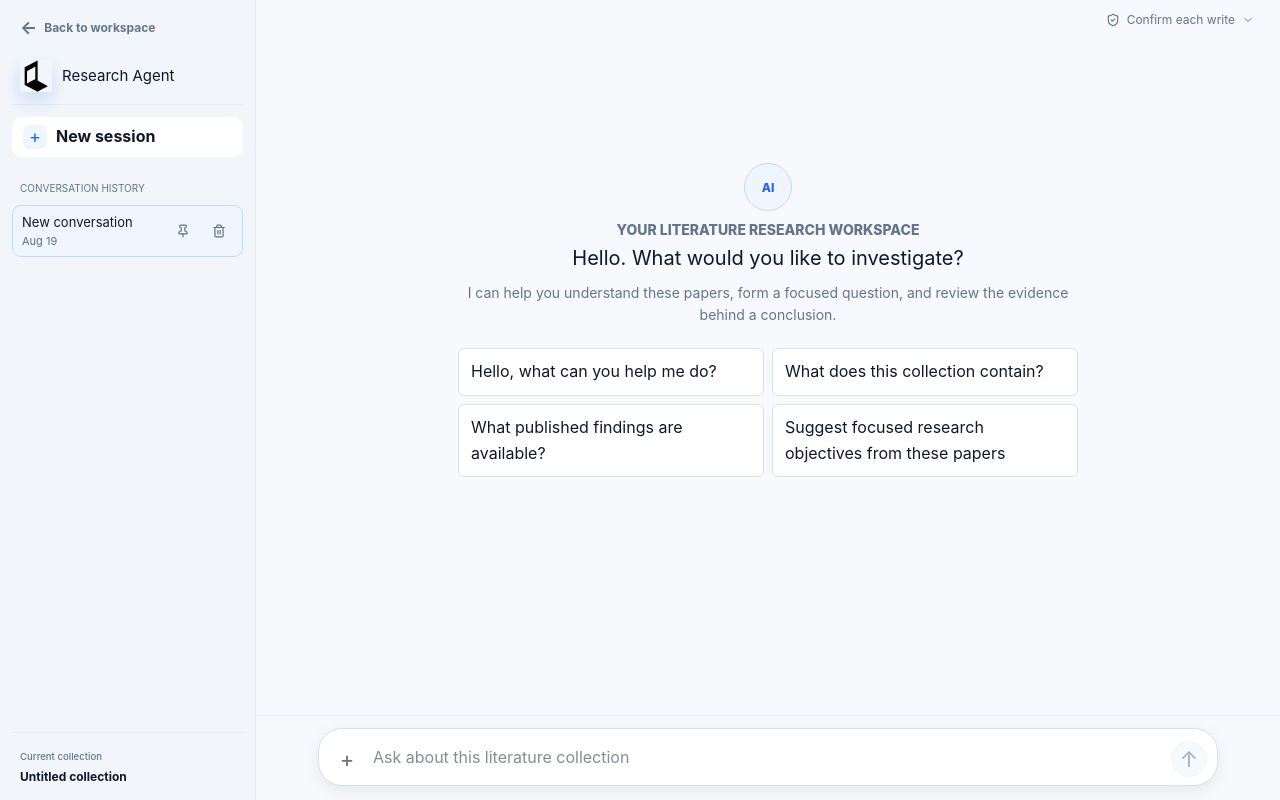
collections/[id]/assistant Research Agent › keeps received text through a failed stream and failed recovery read, then resumes once
Type "Compare matched LPBF tensile conditions" into the text box named "Message" at (768, 757), box [373,737,1163,777]
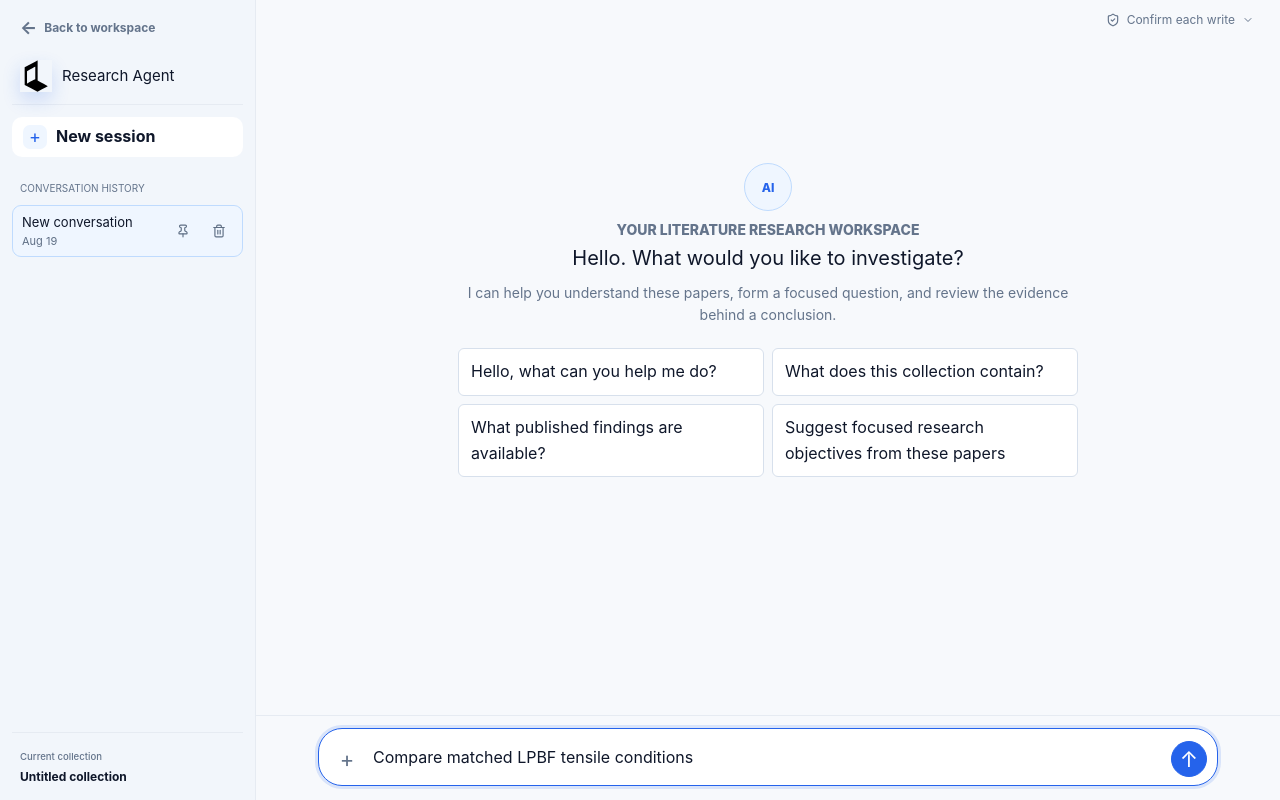
Click the button named "Send" at (1189, 759), box [1171,741,1207,777]
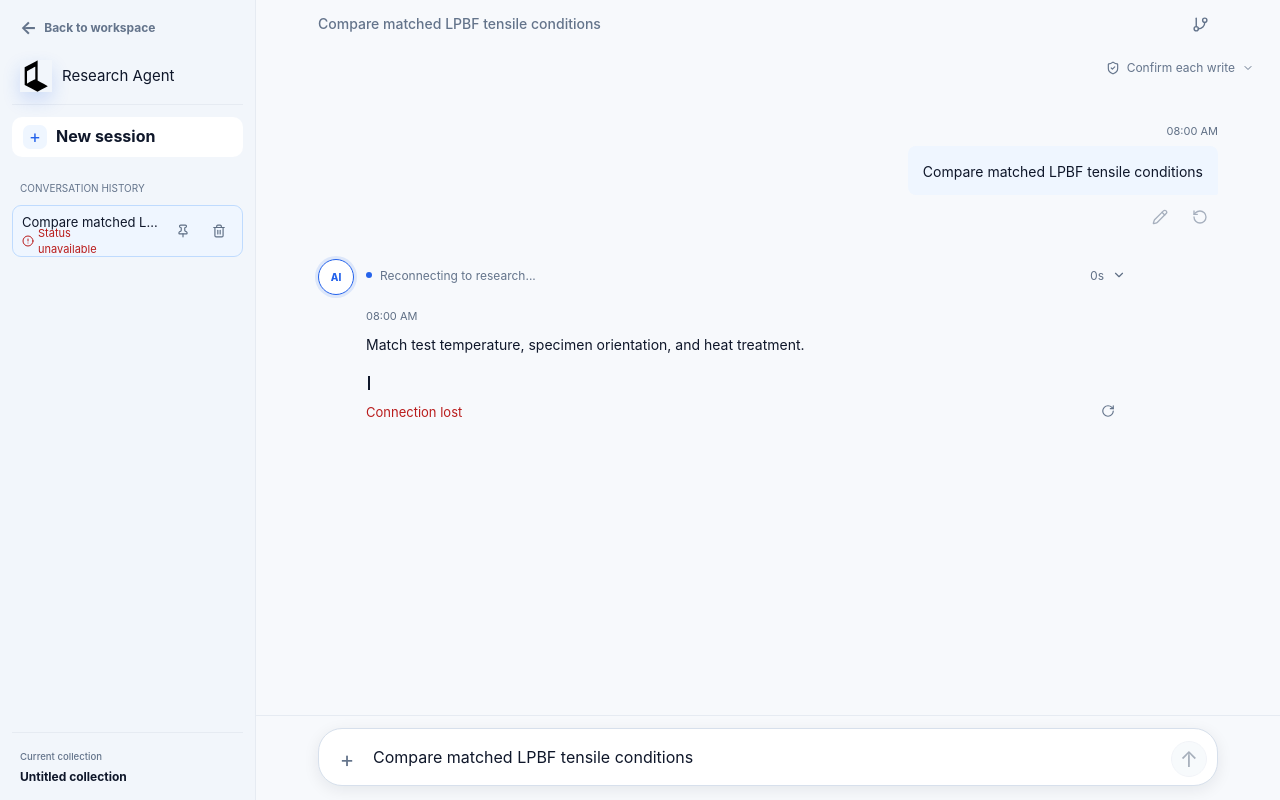
Result: the message "Connection lost" is shown at [366,404,462,420]
Result: the element with test id "assistant-message" shows "Match test temperature, specimen orientation, and heat treatment." at [366,336,805,353]
Click the button named "Check result" at (1108, 411), box [1090,393,1126,429]
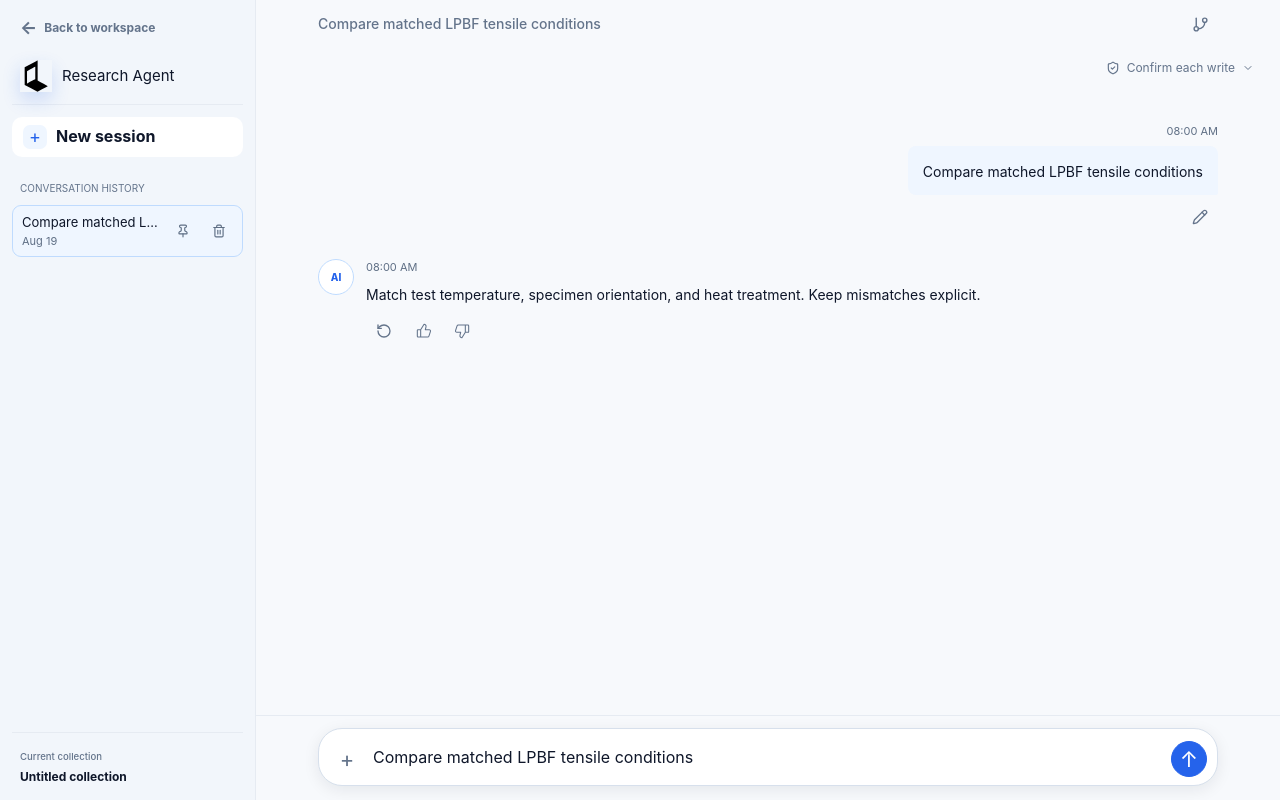
Expected: the text box named "Message" is enabled, [373,737,1163,777]
Result: the element with test id "assistant-message" shows "Keep mismatches explicit." at [366,286,980,304]
